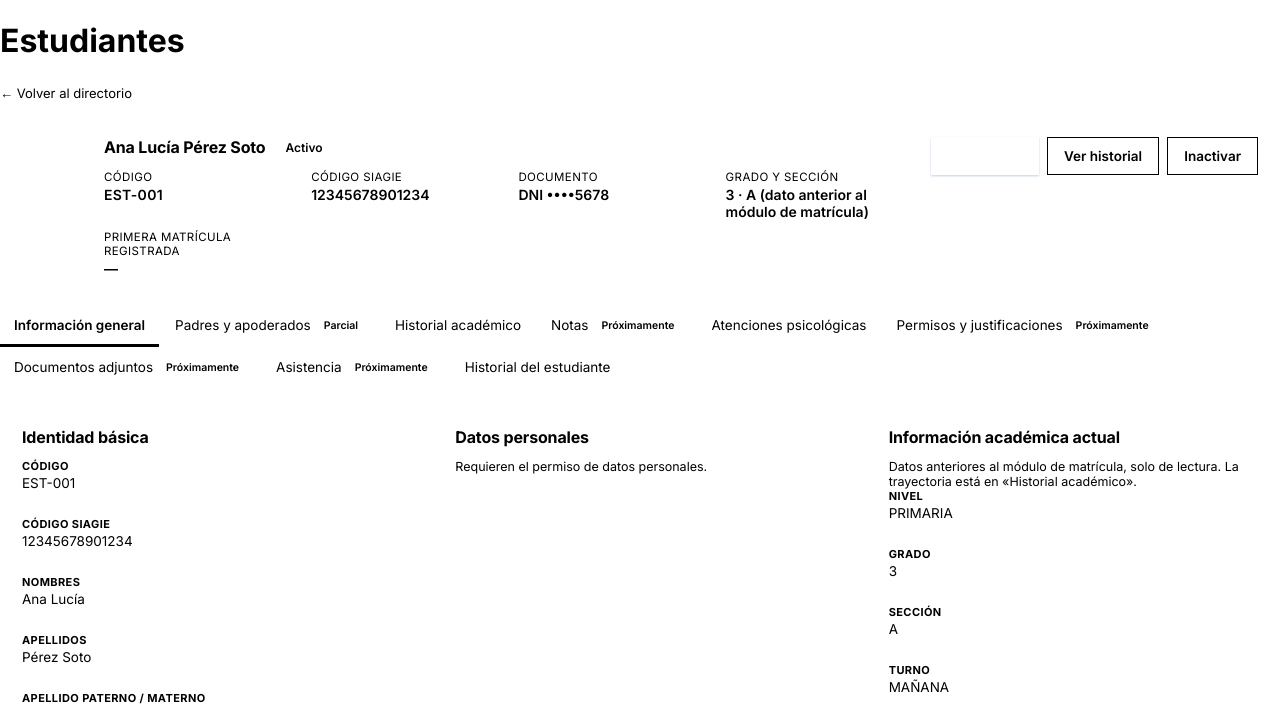
Test case: Editar estudiante › carga los datos actuales y no permite editar código, estado ni datos académicos
Expected: the heading "Identidad básica" is shown, [22, 427, 149, 447]
Click the button "Editar ficha".
click(985, 156)  # box [931, 137, 1039, 175]
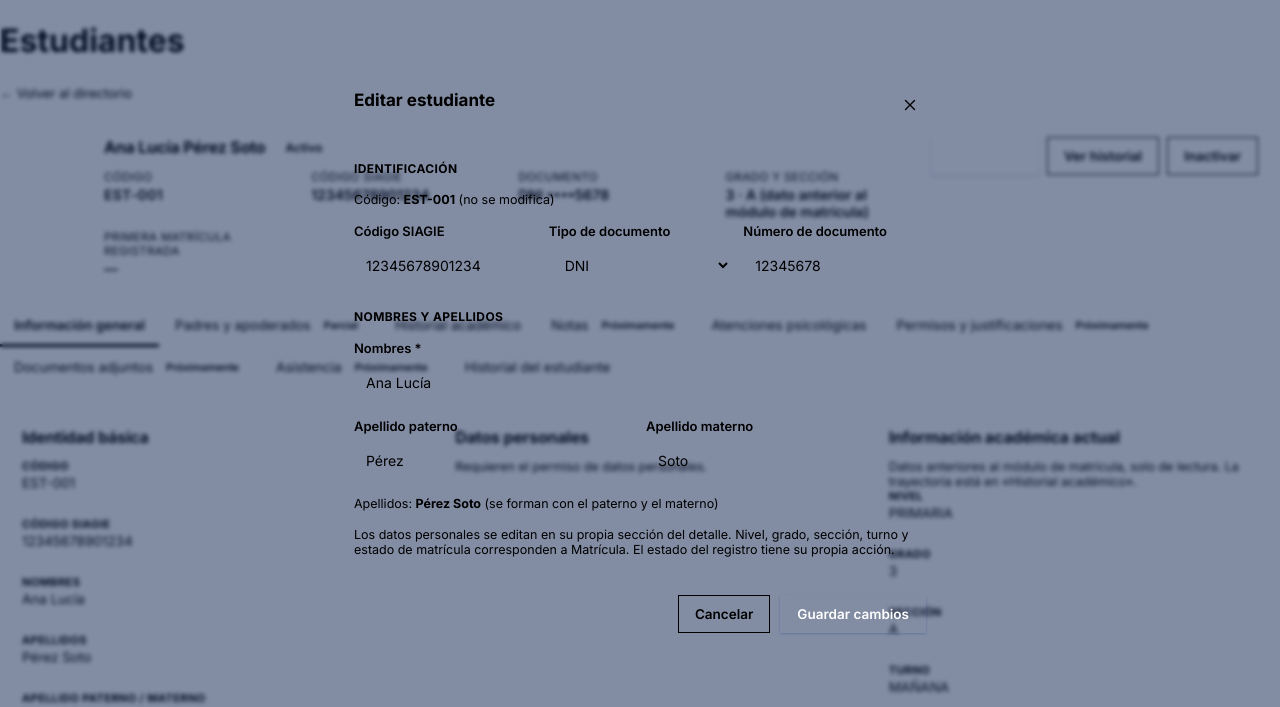
Now the field labelled "Nombres *" holds "Ana Lucía", box [354, 362, 926, 402]
Now the field labelled "Apellido paterno" holds "Pérez", box [354, 440, 634, 480]
Now the field labelled "Número de documento" holds "12345678", box [743, 245, 926, 285]
